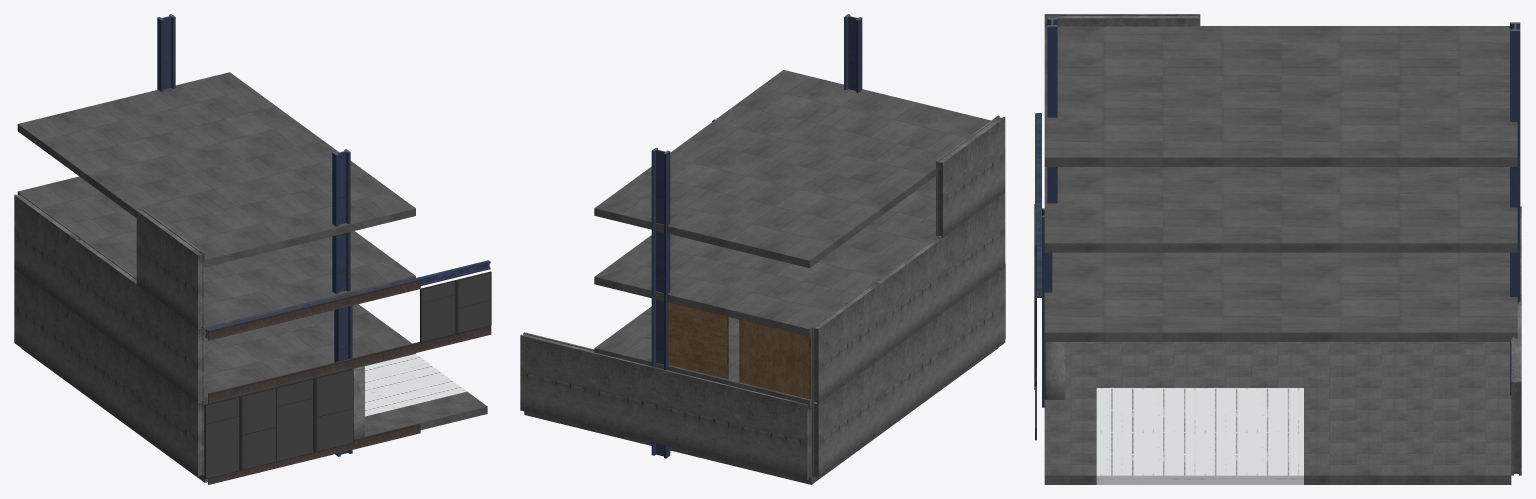
Rendered from BuildingMap_1_0.gltf.
The picture shows the model from 3 angles, left to right: view 1: azimuth 30°, elevation 25°; view 2: azimuth 150°, elevation 25°; view 3: azimuth 270°, elevation 25°; orthographic projection. The views are drawn at different scales.
Visible parts, largest first — view 1: SM_Floors_Thick_159, SM_Floors_Thick_114, SM_Floors_Thick_111, SM_Facade_GlassWall37, SM_Building_Pieces_WallConcrete6m43, SM_Facade_GlassWall36, SM_Building_Pieces_WallConcrete6m30, SM_Building_Pieces_WallConcrete6m35, SM_Building_Pieces_WallConcrete6m37, SM_Building_Pieces_WallConcrete6m36, SM_Building_Pieces_WallConcrete6m32, SM_Building_Pieces_WallConcrete6m31 (+18 smaller); view 2: SM_Floors_Thick_159, SM_Floors_Thick_114, SM_BP_WallCon_8x31, SM_BP_WallCon_8x30, SM_Building_Pieces_WallConcrete6m43, SM_Building_Pieces_WallConcrete6m37, SM_Building_Pieces_WallConcrete6m32, SM_Building_Pieces_WallConcrete6m36, SM_Building_Pieces_WallConcrete6m35, SM_Building_Pieces_WallConcrete6m30, SM_Building_Pieces_WallConcrete6m31, SM_Wall_Inside_58 (+7 smaller); view 3: SM_Floors_Thick_159, SM_Floors_Thick_111, SM_Floors_Thick_114, SM_Floors_Thick_39, SM_Floors_Thick_40, SM_Floors_Thick_45, SM_Floors_Thick_46, SM_Building_Pieces_WallConcrete6m43, SM_Building_Pieces_2_SteelRudder181, SM_BP_WallCon_8x30, SM_Floors_Thick_41, SM_Building_Pieces_2_SteelRudder144 (+8 smaller).
Part boxes in pixels (box(x1,y1,x2,y2)): SM_Floors_Thick_159: box(17, 72, 415, 267); SM_Floors_Thick_114: box(17, 176, 415, 334); SM_Floors_Thick_111: box(204, 304, 415, 404); SM_Facade_GlassWall37: box(275, 368, 353, 461); SM_Building_Pieces_WallConcrete6m43: box(136, 209, 204, 328); SM_Facade_GlassWall36: box(204, 387, 276, 479); SM_Building_Pieces_WallConcrete6m30: box(136, 359, 204, 476); SM_Building_Pieces_WallConcrete6m35: box(136, 285, 204, 402); SM_Building_Pieces_WallConcrete6m37: box(14, 193, 81, 312); SM_Building_Pieces_WallConcrete6m36: box(75, 238, 136, 357); SM_Building_Pieces_WallConcrete6m32: box(14, 269, 75, 386); SM_Building_Pieces_WallConcrete6m31: box(75, 314, 136, 431); SM_Floors_Thick_159: box(594, 70, 990, 268); SM_Floors_Thick_114: box(594, 176, 936, 336); SM_BP_WallCon_8x31: box(663, 370, 811, 480); SM_BP_WallCon_8x30: box(520, 332, 663, 445); SM_Building_Pieces_WallConcrete6m43: box(936, 115, 1005, 237); SM_Building_Pieces_WallConcrete6m37: box(811, 282, 880, 403); SM_Building_Pieces_WallConcrete6m32: box(811, 359, 880, 478); SM_Building_Pieces_WallConcrete6m36: box(875, 236, 942, 357); SM_Building_Pieces_WallConcrete6m35: box(937, 193, 1005, 312); SM_Building_Pieces_WallConcrete6m30: box(943, 268, 1005, 387); SM_Building_Pieces_WallConcrete6m31: box(881, 313, 942, 433); SM_Wall_Inside_58: box(739, 319, 811, 408); SM_Floors_Thick_159: box(1044, 26, 1517, 166); SM_Floors_Thick_111: box(1044, 252, 1517, 341); SM_Floors_Thick_114: box(1044, 167, 1517, 252); SM_Floors_Thick_39: box(1096, 388, 1303, 484); SM_Floors_Thick_40: box(1304, 388, 1511, 484); SM_Floors_Thick_45: box(1096, 342, 1303, 387); SM_Floors_Thick_46: box(1304, 342, 1509, 387); SM_Building_Pieces_WallConcrete6m43: box(1044, 14, 1200, 26); SM_Building_Pieces_2_SteelRudder181: box(1510, 22, 1520, 221); SM_BP_WallCon_8x30: box(1511, 294, 1521, 475); SM_Floors_Thick_41: box(1044, 453, 1096, 484); SM_Building_Pieces_2_SteelRudder144: box(1047, 18, 1057, 203).
Size of the model in its own units: 16.4 by 16.22 by 18.8.
Materials: 6 (6 with a texture image).
